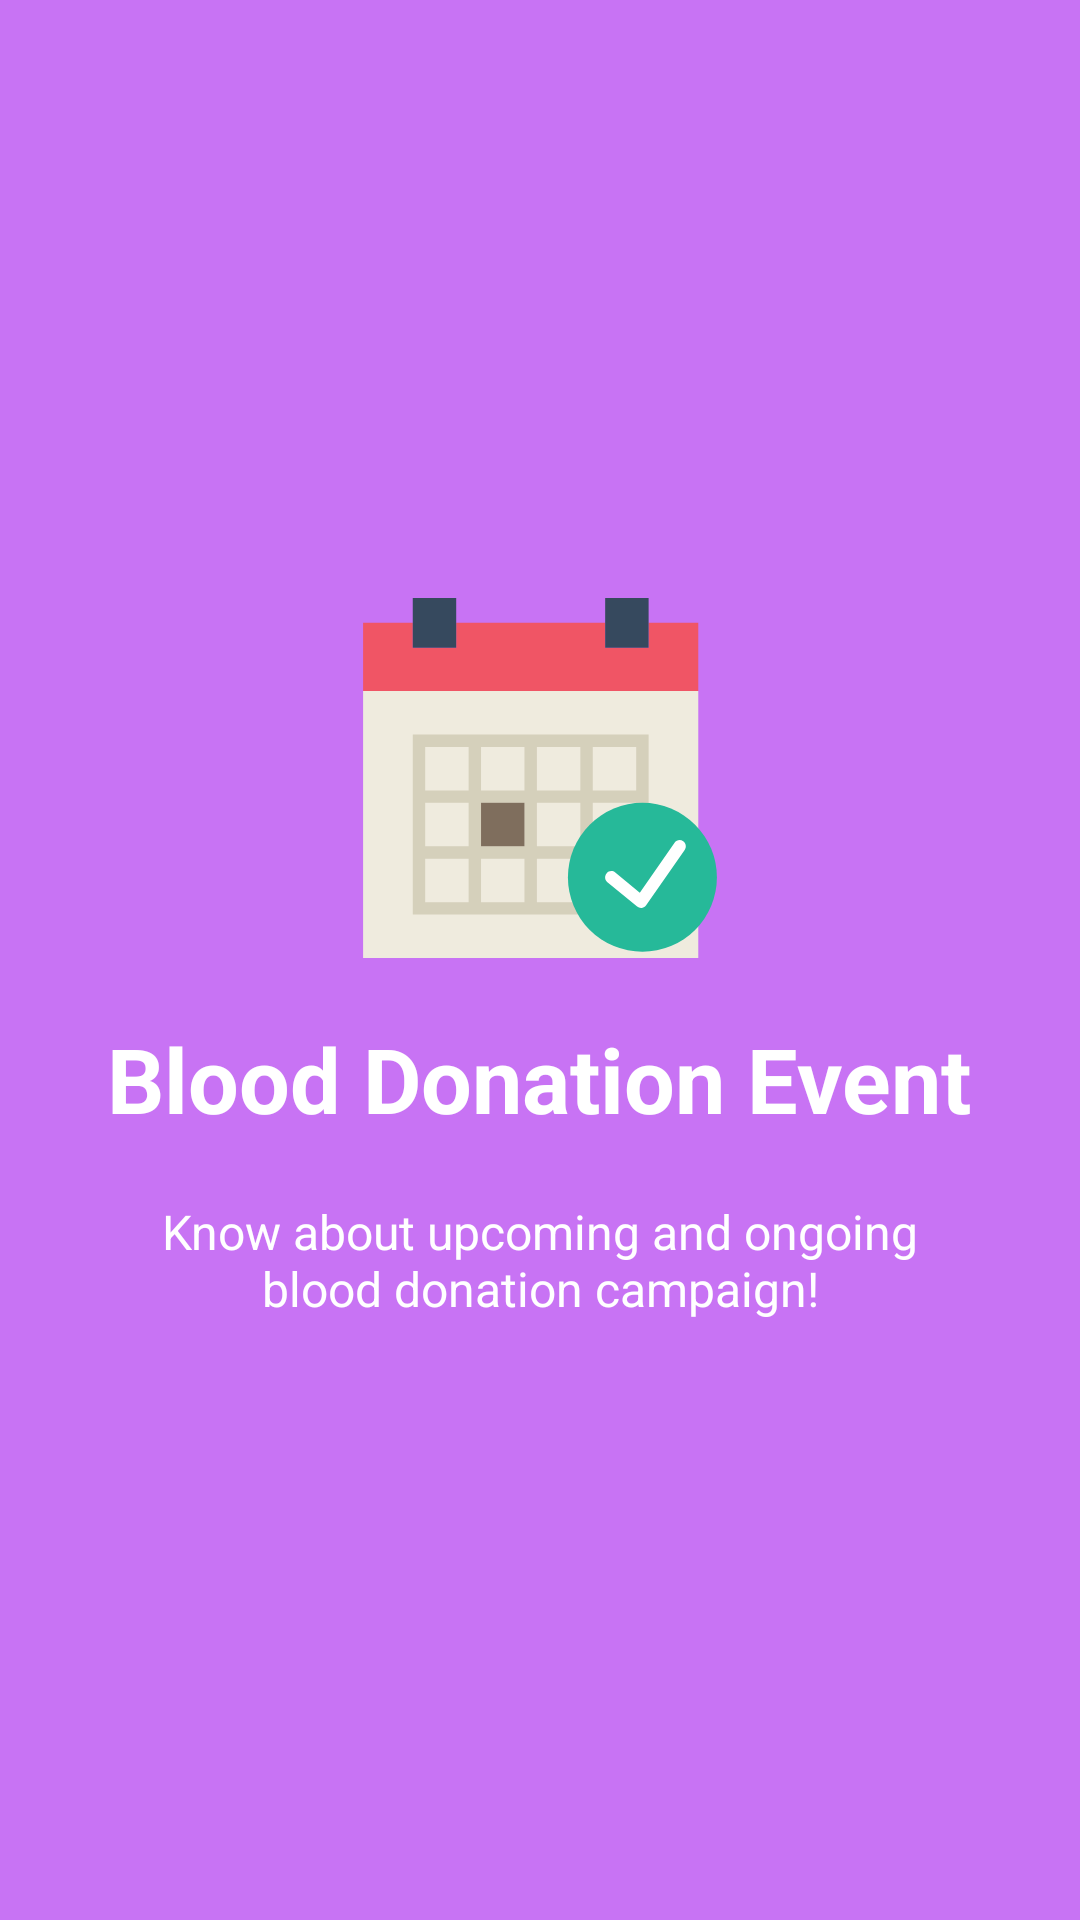

Icons on this 1080 x 1920 Android screen, each with the point to tap as point (x, y):
calendar: point (540, 778)
